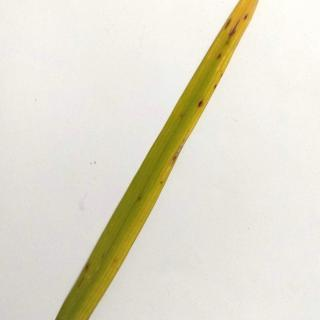bercak-Cokelat: (222, 13, 270, 52), (164, 150, 188, 167), (193, 96, 207, 115)
